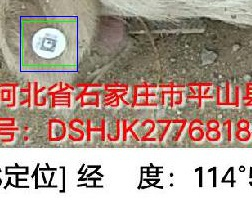text: (22, 21, 77, 65)
